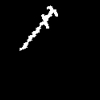double_crochet: (20, 6, 57, 49)
